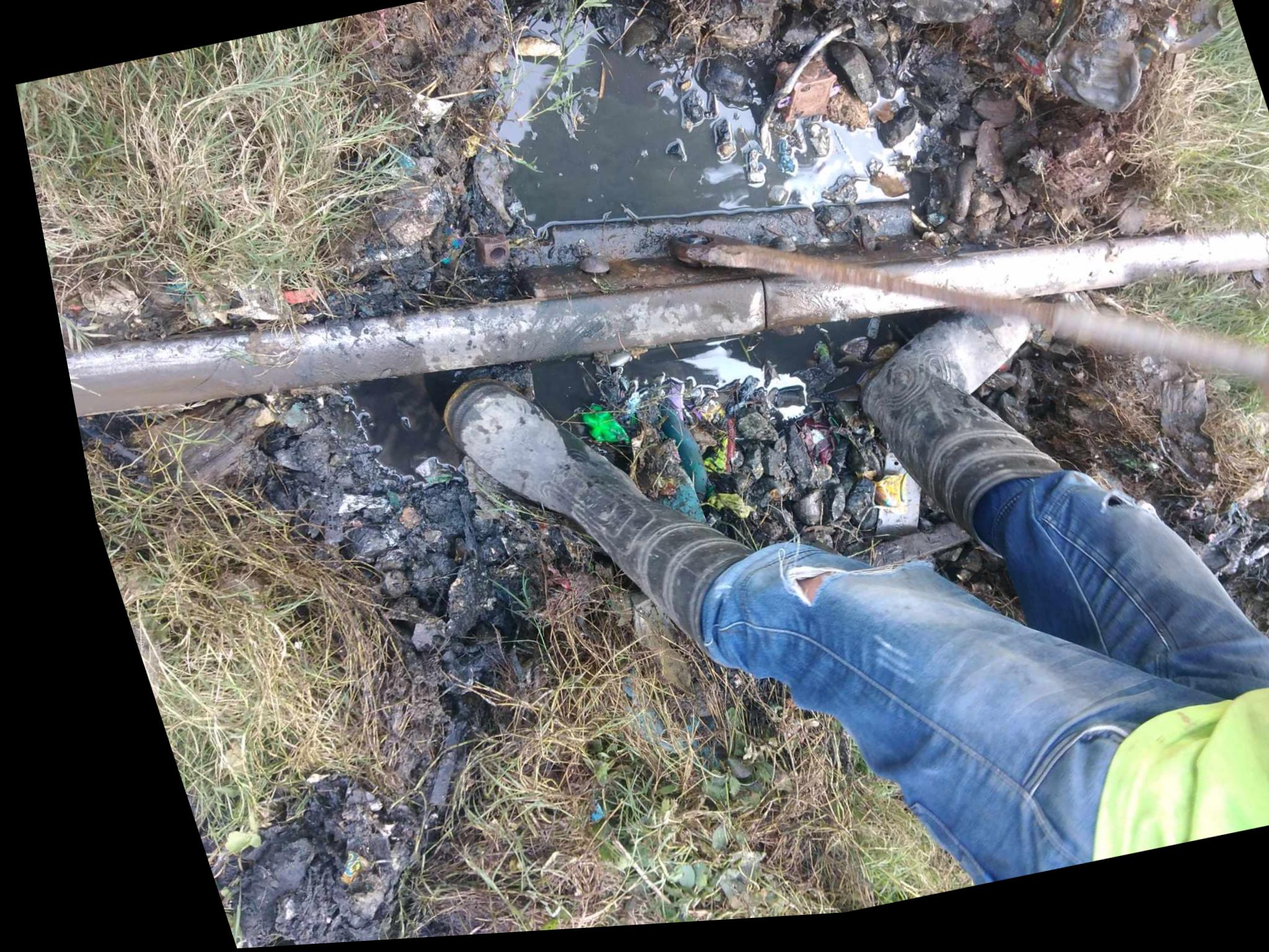person: (685, 253, 819, 374)
